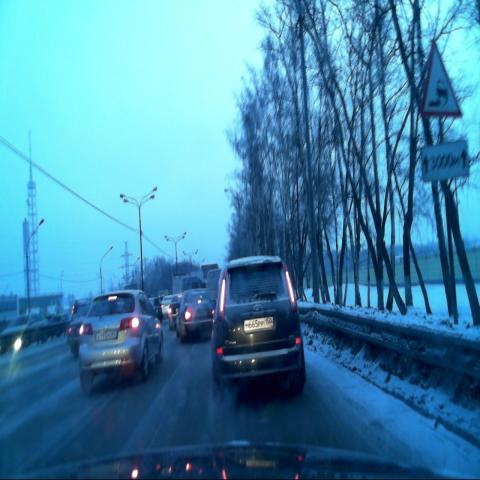1_19: (422, 41, 462, 118)
